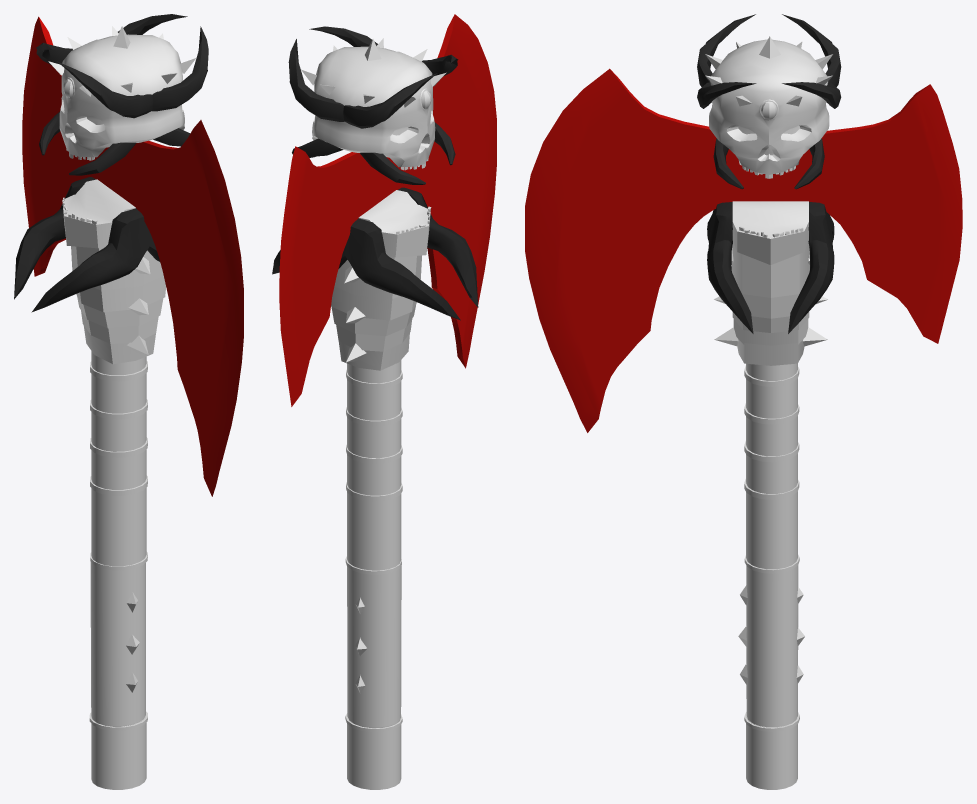
Rendered from argent axe.fbx.
3 renders of one model, left to right at view 1: azimuth 30°, elevation 25°; view 2: azimuth 150°, elevation 25°; view 3: azimuth 270°, elevation 25°, orthographic.
Visible parts, largest first — view 1: Plane, Cylinder, Plane.001, Cylinder.001, Cube, Plane.006, Plane.003, Plane.005, Plane.004, Circle, Cone.003, Cone.004; view 2: Plane, Cylinder, Plane.001, Cylinder.001, Plane.006, Cube, Plane.003, Plane.005, Plane.004, Circle, Cone.003; view 3: Plane, Cylinder, Plane.001, Cylinder.001, Cube, Plane.006, Plane.005, Plane.003, Circle, Plane.004.
Part boxes in pixels (x1,y1,x2,y2): Plane: (22, 16, 243, 496); Cylinder: (91, 351, 146, 789); Plane.001: (59, 34, 184, 157); Cylinder.001: (90, 562, 145, 726); Cube: (71, 246, 165, 364); Plane.006: (14, 177, 159, 312); Plane.003: (36, 14, 208, 118); Plane.005: (62, 179, 135, 248); Plane.004: (39, 111, 190, 175); Circle: (90, 361, 147, 495); Cone.003: (127, 257, 150, 355); Cone.004: (126, 592, 139, 692); Plane: (279, 14, 496, 406); Cylinder: (347, 360, 401, 789); Plane.001: (312, 46, 435, 167); Cylinder.001: (347, 565, 401, 728); Plane.006: (272, 187, 478, 320); Cube: (331, 255, 421, 370); Plane.003: (288, 26, 458, 128); Plane.005: (358, 190, 430, 257); Plane.004: (292, 122, 455, 184); Circle: (346, 369, 402, 501); Cone.003: (344, 266, 366, 362); Plane: (525, 68, 962, 432); Cylinder: (746, 363, 797, 789); Plane.001: (709, 39, 829, 174); Cylinder.001: (746, 565, 798, 727); Cube: (731, 242, 809, 365); Plane.006: (707, 202, 834, 333); Plane.005: (732, 201, 808, 264); Plane.003: (697, 14, 841, 108); Circle: (744, 365, 799, 499); Plane.004: (713, 138, 824, 189).
Size of the model in its own units: 194 by 725 by 387.
